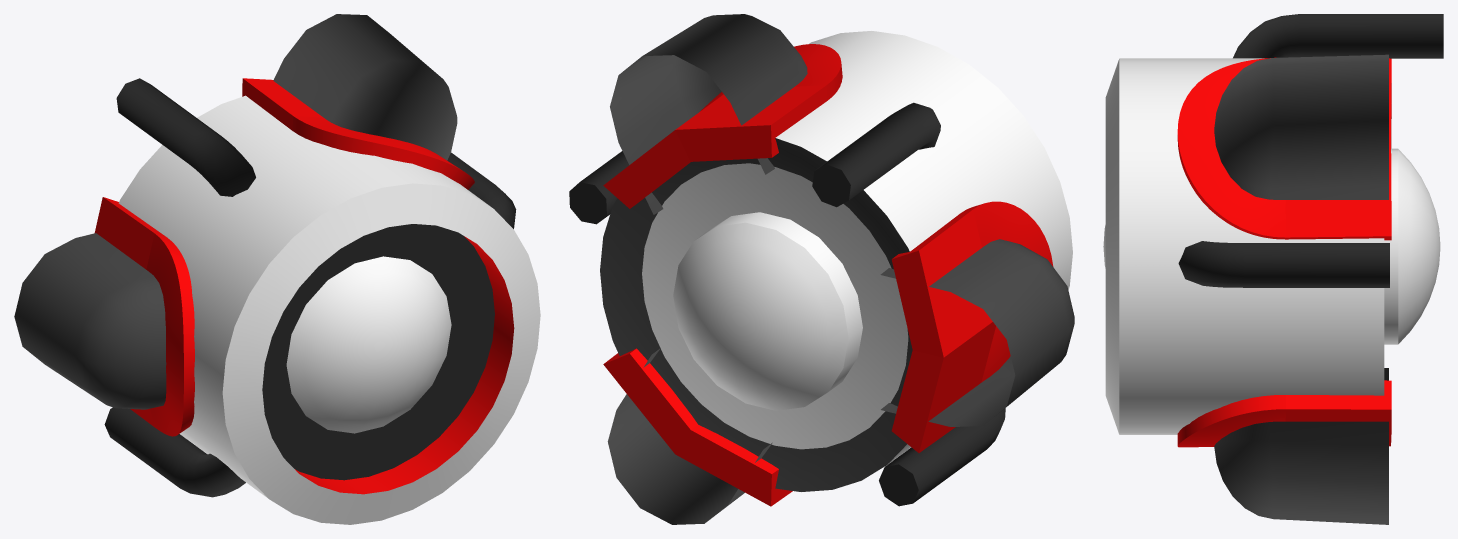
File: mine.obj
3 renders of one model, left to right at view 1: azimuth 30°, elevation 25°; view 2: azimuth 150°, elevation 25°; view 3: azimuth 270°, elevation 25°, orthographic. The views are drawn at different scales.
Visible parts, largest first — view 1: Cylinder008, OilTank001, Capsule003, Capsule004, Cylinder012, Cylinder010, Cylinder018, Cylinder011, Cylinder009; view 2: Cylinder008, OilTank001, Cylinder012, Capsule004, Capsule003, Cylinder018, Capsule005, Cylinder019, Cylinder010, Cylinder011, Cylinder009; view 3: Cylinder008, Capsule004, Capsule005, Cylinder018, Cylinder009, Cylinder010, OilTank001, Cylinder019.
Part boxes in pixels (bbox=[...]): Cylinder008: bbox=[118, 95, 540, 524]; OilTank001: bbox=[286, 256, 451, 433]; Capsule003: bbox=[14, 233, 166, 409]; Capsule004: bbox=[273, 14, 457, 160]; Cylinder012: bbox=[94, 197, 194, 436]; Cylinder010: bbox=[116, 78, 255, 196]; Cylinder018: bbox=[242, 78, 474, 189]; Cylinder011: bbox=[104, 407, 245, 497]; Cylinder009: bbox=[447, 152, 516, 228]; Cylinder008: bbox=[600, 31, 1072, 491]; OilTank001: bbox=[673, 212, 862, 410]; Cylinder012: bbox=[891, 201, 1053, 452]; Capsule004: bbox=[610, 14, 807, 214]; Capsule003: bbox=[880, 239, 1074, 426]; Cylinder018: bbox=[603, 44, 842, 208]; Capsule005: bbox=[607, 348, 772, 524]; Cylinder019: bbox=[603, 348, 792, 506]; Cylinder010: bbox=[812, 102, 940, 207]; Cylinder011: bbox=[879, 408, 1005, 506]; Cylinder009: bbox=[569, 151, 629, 224]; Cylinder008: bbox=[1105, 58, 1384, 434]; Capsule004: bbox=[1214, 54, 1388, 199]; Capsule005: bbox=[1214, 368, 1388, 524]; Cylinder018: bbox=[1177, 57, 1391, 240]; Cylinder009: bbox=[1178, 241, 1389, 287]; Cylinder010: bbox=[1233, 14, 1443, 58]; OilTank001: bbox=[1103, 148, 1440, 344]; Cylinder019: bbox=[1177, 380, 1391, 447].
Bounding box in the file's own units: 1.78 × 1.79 × 1.21.
